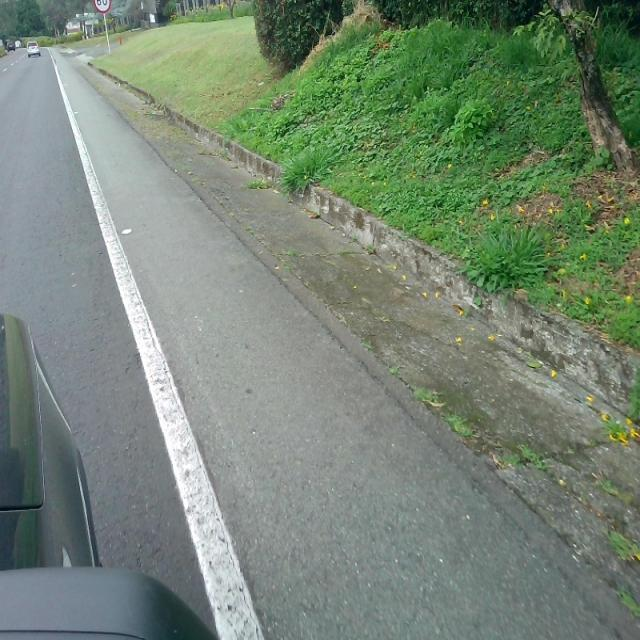DITCH: (51, 23, 638, 637), (56, 46, 639, 637)
